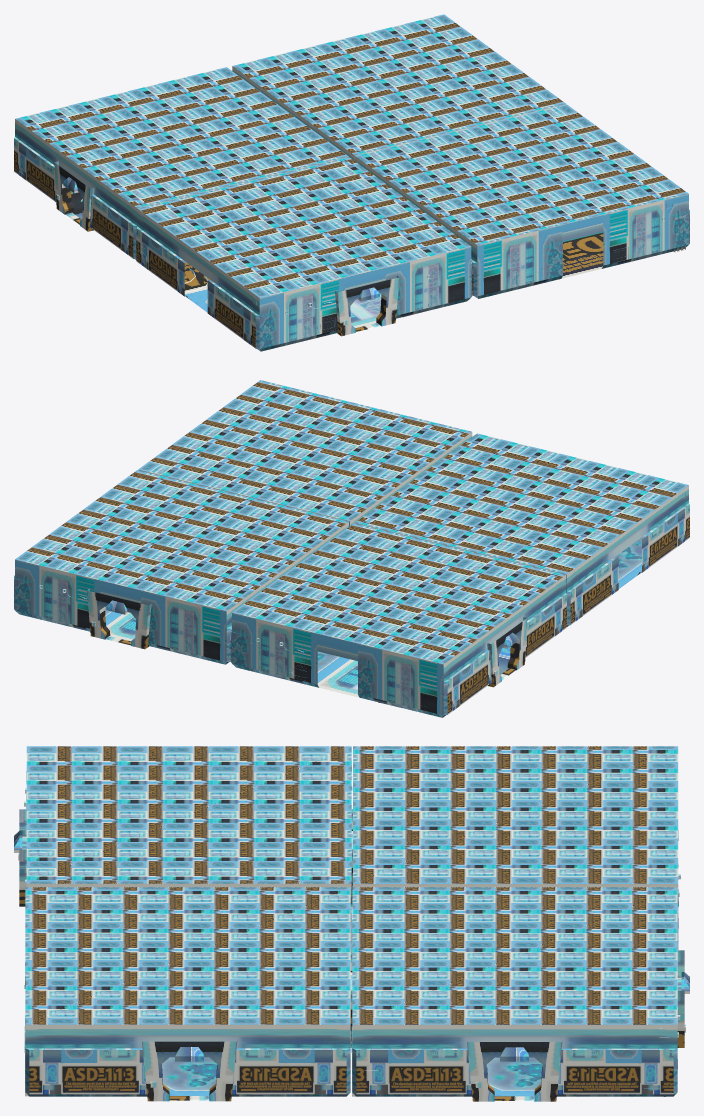
Rendered from Combined_Mesh_root_scene__9_f65a131e__ZombiesII_laboratory_10_a_1fa57b93_c1f257_part002.obj.
3 views of the same model, one above another, from view 1: azimuth 30°, elevation 25°; view 2: azimuth 150°, elevation 25°; view 3: azimuth 270°, elevation 25° (orthographic). The views are drawn at different scales.
Bounding box in the file's own units: 83.99 × 10.21 × 83.14.
Materials: 233 (233 with a texture image).
